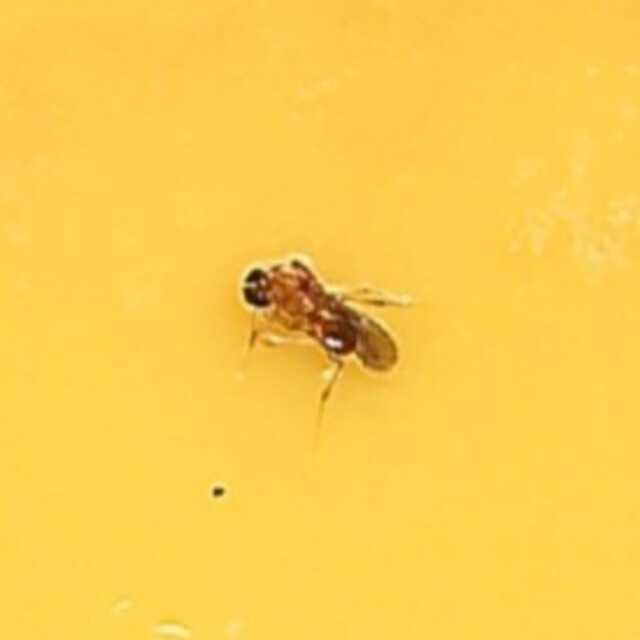Brachycera: (233, 239, 407, 401)
